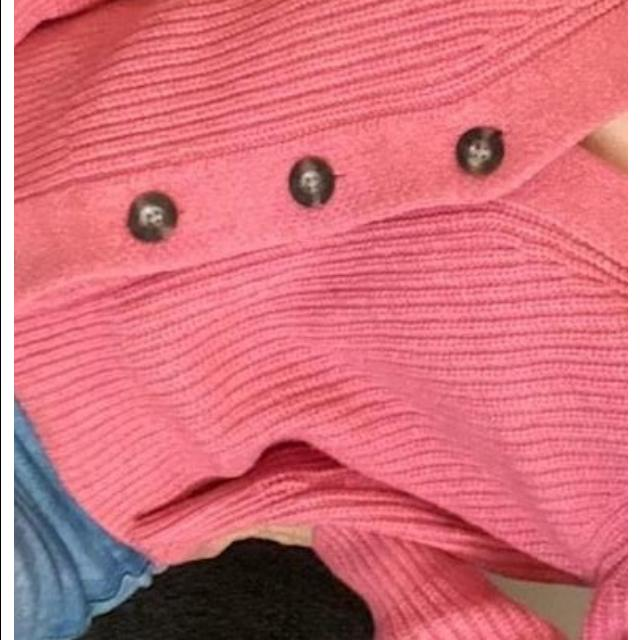wool: (353, 0, 627, 640)
